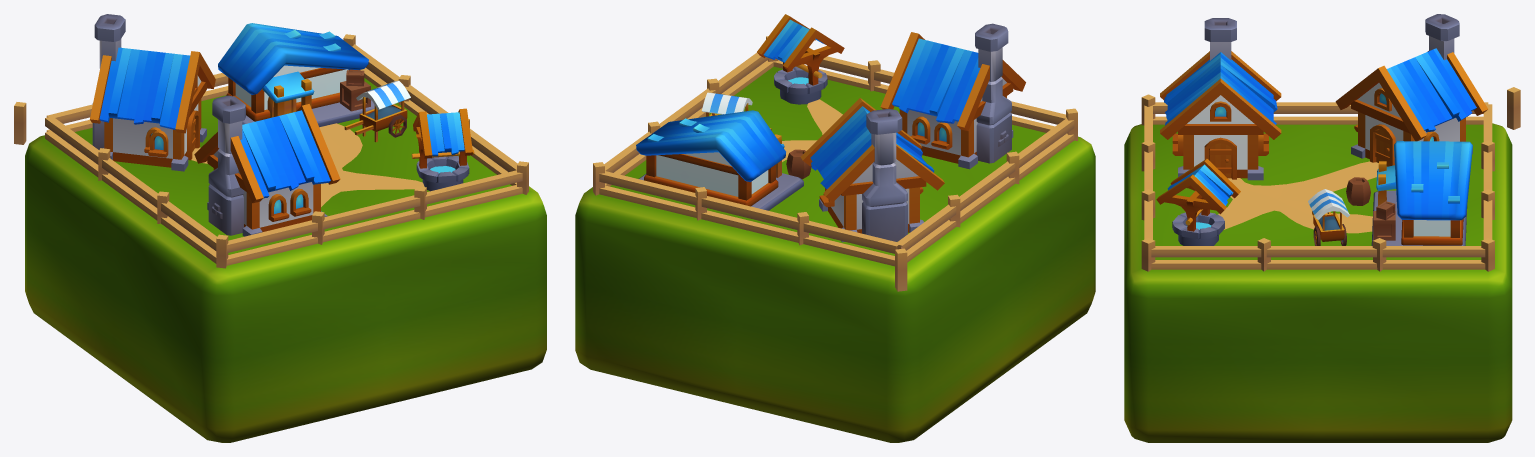
Rendered from block_meta_base_lvl_1.fbx.
3 views of the same model, side by side, from view 1: azimuth 30°, elevation 25°; view 2: azimuth 150°, elevation 25°; view 3: azimuth 270°, elevation 25° (orthographic). The views are drawn at different scales.
Parts seen in each view (by area): view 1: block_village_1; view 2: block_village_1; view 3: block_village_1.
Boxes of the visible parts, x1,y1,x2,y2 form: block_village_1: (14, 14, 546, 442); block_village_1: (575, 14, 1095, 442); block_village_1: (1124, 14, 1520, 442).
Size of the model in its own units: 400 by 337 by 409.
